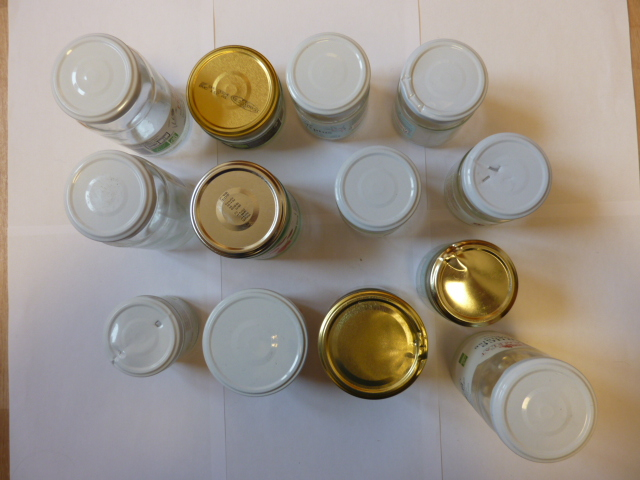damaged: (316, 287, 430, 401), (427, 240, 519, 326), (463, 130, 551, 217), (401, 37, 489, 122), (102, 295, 182, 378)
intact: (202, 286, 310, 398), (189, 160, 289, 257), (62, 149, 156, 242), (187, 44, 279, 137), (51, 33, 140, 123), (336, 144, 420, 231), (286, 31, 371, 115)
